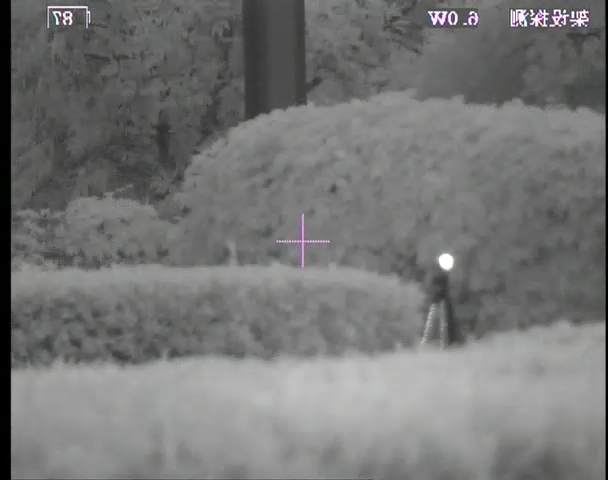my: (437, 253, 455, 272)
